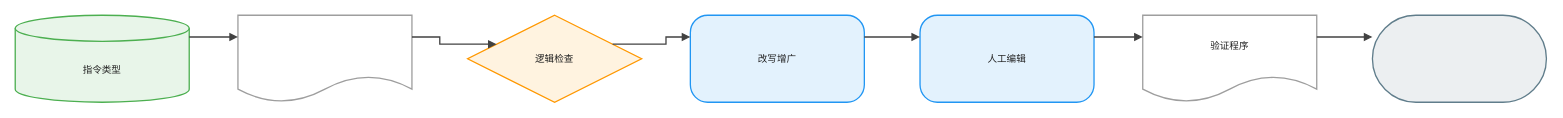
This 1563x118 diagram has some shape labels left out. Each missing label, with the centre of its shape:
"准确率" goes at (x=1459, y=58).
"基础Prompt" goes at (x=324, y=58).
